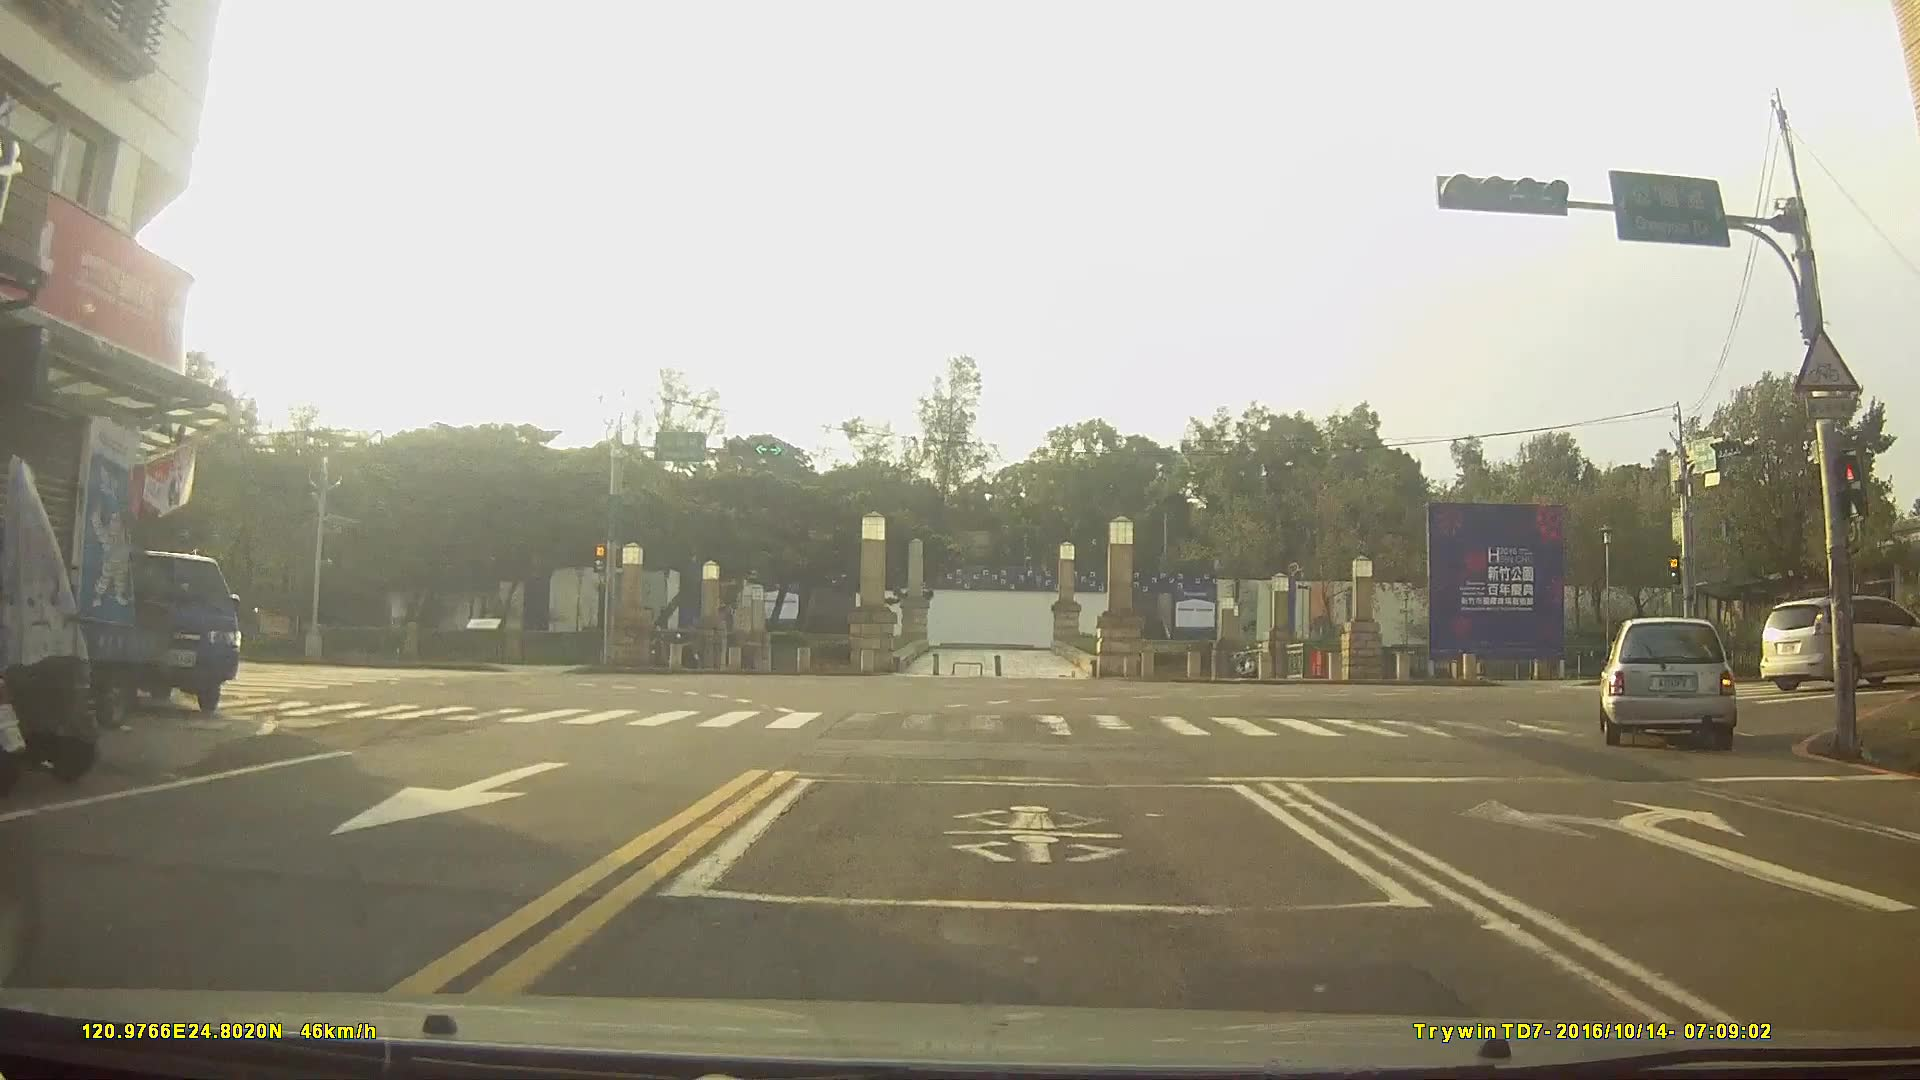vehicle: (116, 545, 239, 713), (1597, 615, 1737, 746), (1758, 593, 1920, 691)
